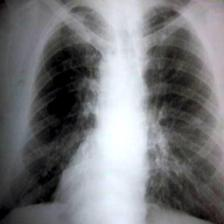tuberculosis: (4, 0, 224, 224)
